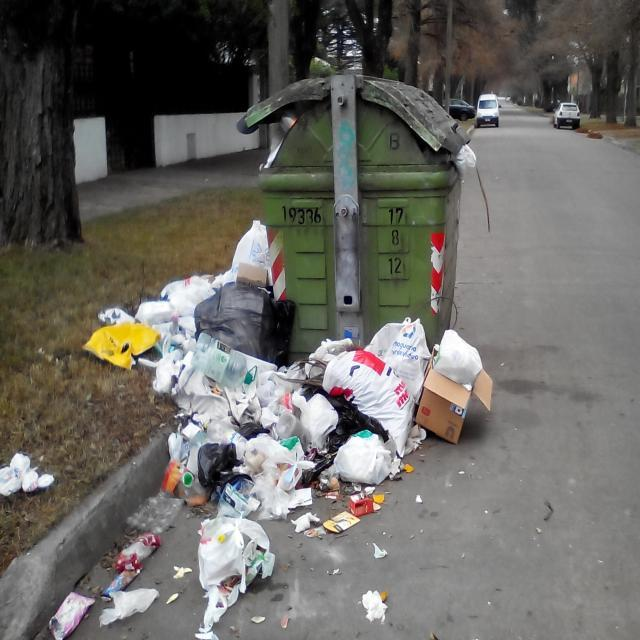garbage: (242, 327, 480, 512), (178, 322, 276, 612), (99, 246, 277, 368), (47, 530, 162, 632), (0, 451, 54, 499)
